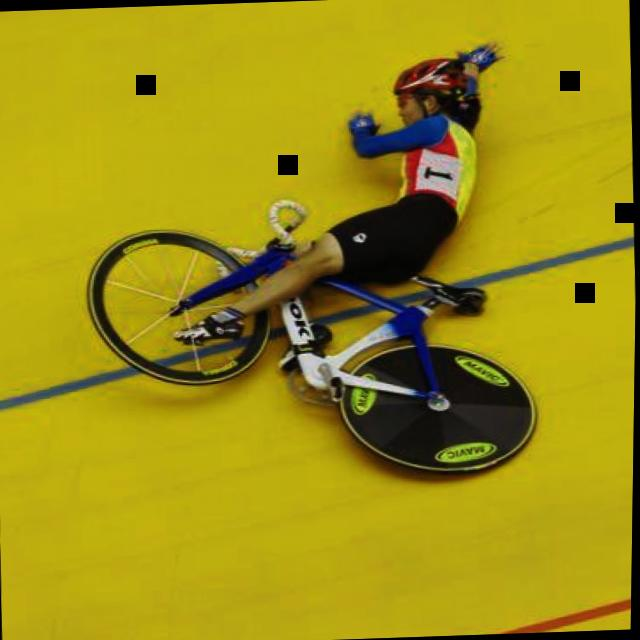Fall-Detected: (146, 18, 510, 354)
